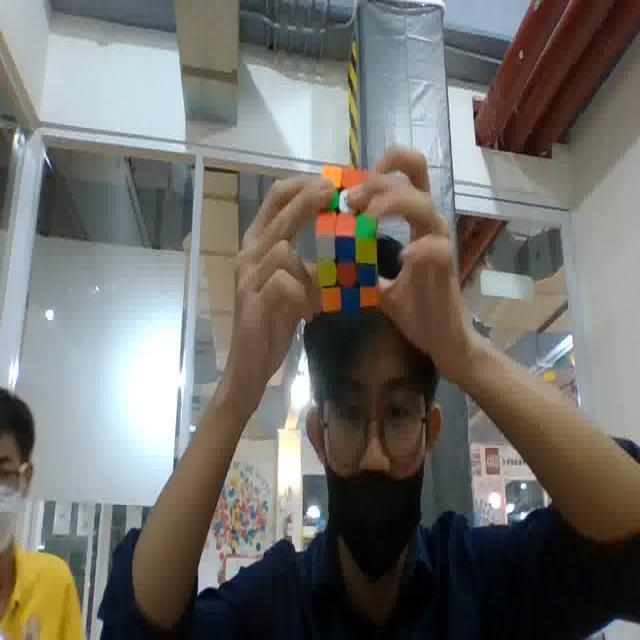Rub: (311, 165, 386, 315)
